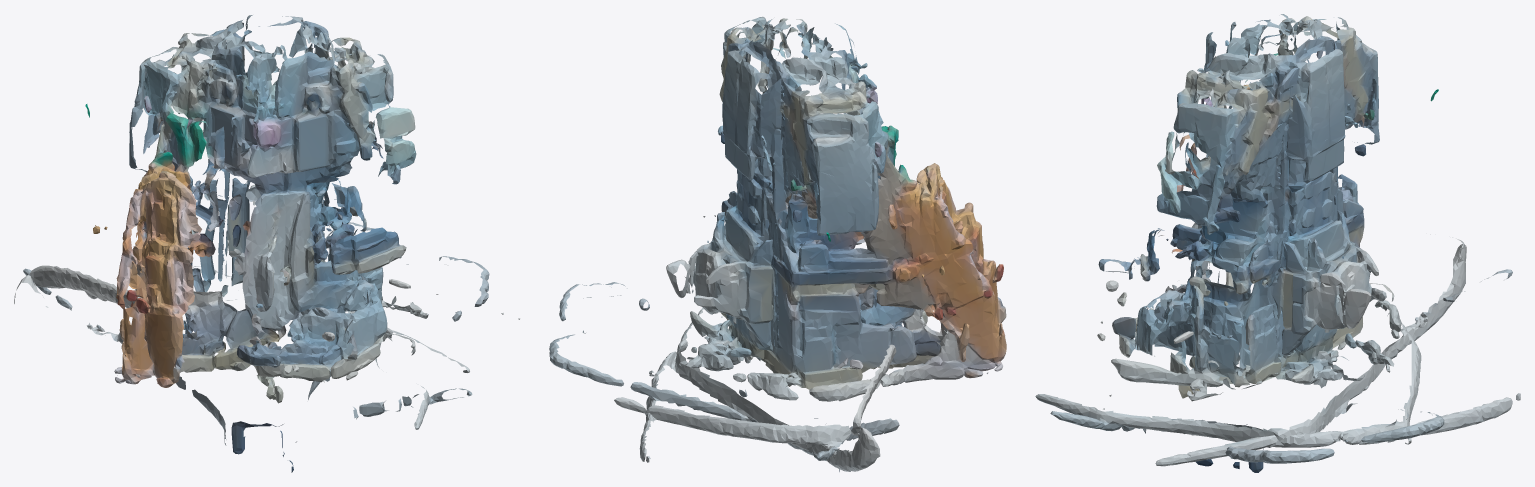
File: finished_model_20260520_110403.glb
3 renders of one model, left to right at view 1: azimuth 30°, elevation 25°; view 2: azimuth 150°, elevation 25°; view 3: azimuth 270°, elevation 25°, orthographic. The views are drawn at different scales.
Visible parts, largest first — view 1: finished_model_20260520_110403.ply; view 2: finished_model_20260520_110403.ply; view 3: finished_model_20260520_110403.ply.
Part boxes in pixels (<box>): finished_model_20260520_110403.ply: <box>14,15,520,472</box>; finished_model_20260520_110403.ply: <box>549,16,1006,471</box>; finished_model_20260520_110403.ply: <box>1035,14,1520,472</box>.
Size of the model in its own units: 0.1238 by 0.1244 by 0.1246.
